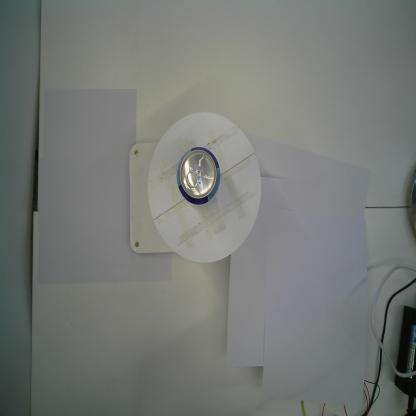Alcohol: (176, 146, 221, 206)
